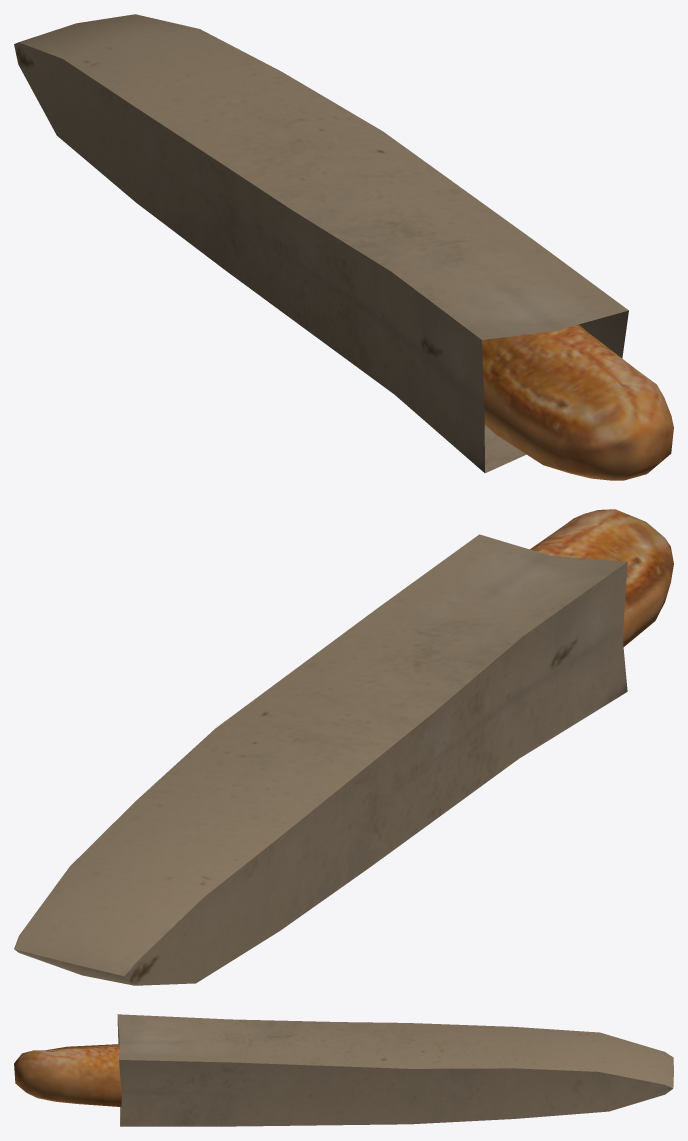
Rendered from SM_BaguettePackage.fbx.
3 renders of one model, top to bottom at view 1: azimuth 30°, elevation 25°; view 2: azimuth 150°, elevation 25°; view 3: azimuth 270°, elevation 25°, orthographic. The views are drawn at different scales.
Visible parts, largest first — view 1: SM_BaguettePackage_LOD0; view 2: SM_BaguettePackage_LOD0; view 3: SM_BaguettePackage_LOD0.
Boxes of the visible parts, left/top/right/bottom form: SM_BaguettePackage_LOD0: left=14, top=14, right=673, bottom=480; SM_BaguettePackage_LOD0: left=14, top=509, right=673, bottom=985; SM_BaguettePackage_LOD0: left=14, top=1014, right=673, bottom=1126.
Size of the model in its own units: 10.58 by 66.9 by 8.46.
